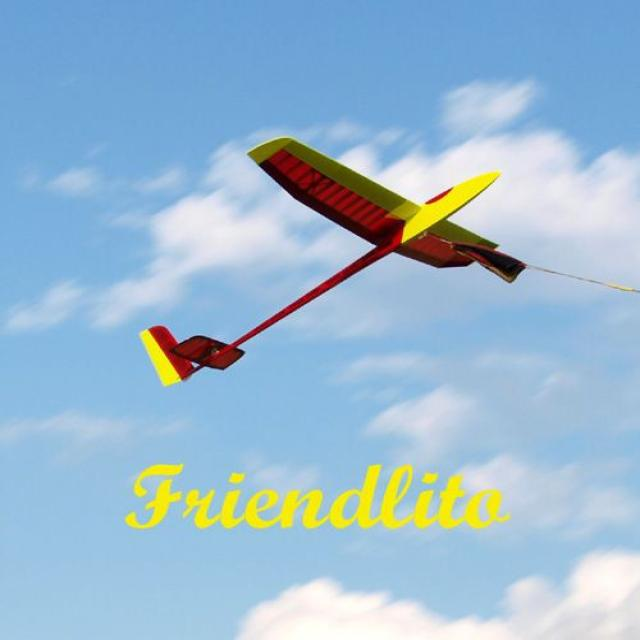iha: (140, 133, 526, 390)
